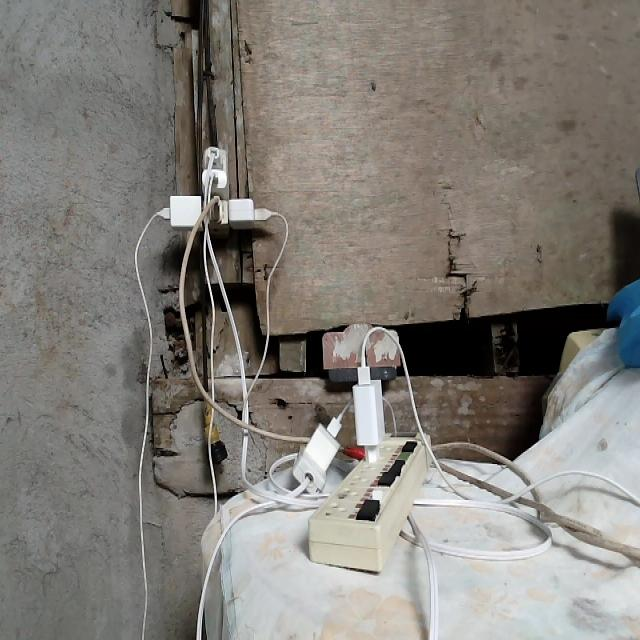-: (163, 146, 265, 230)
